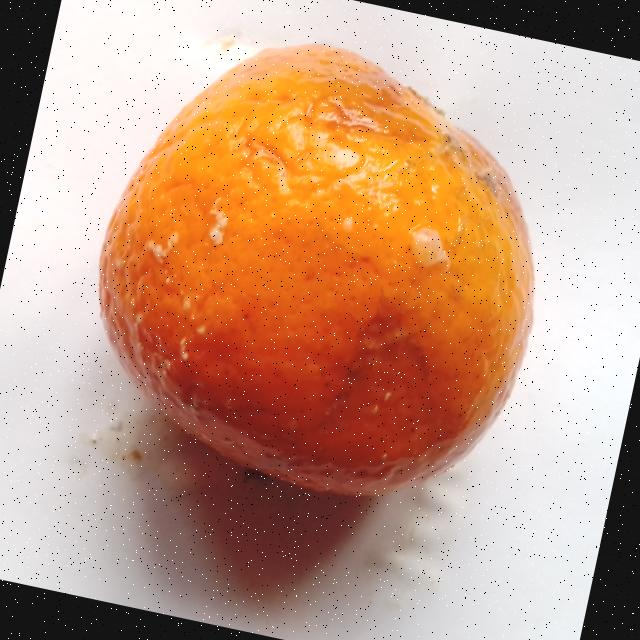Rotten: (59, 3, 584, 532)
